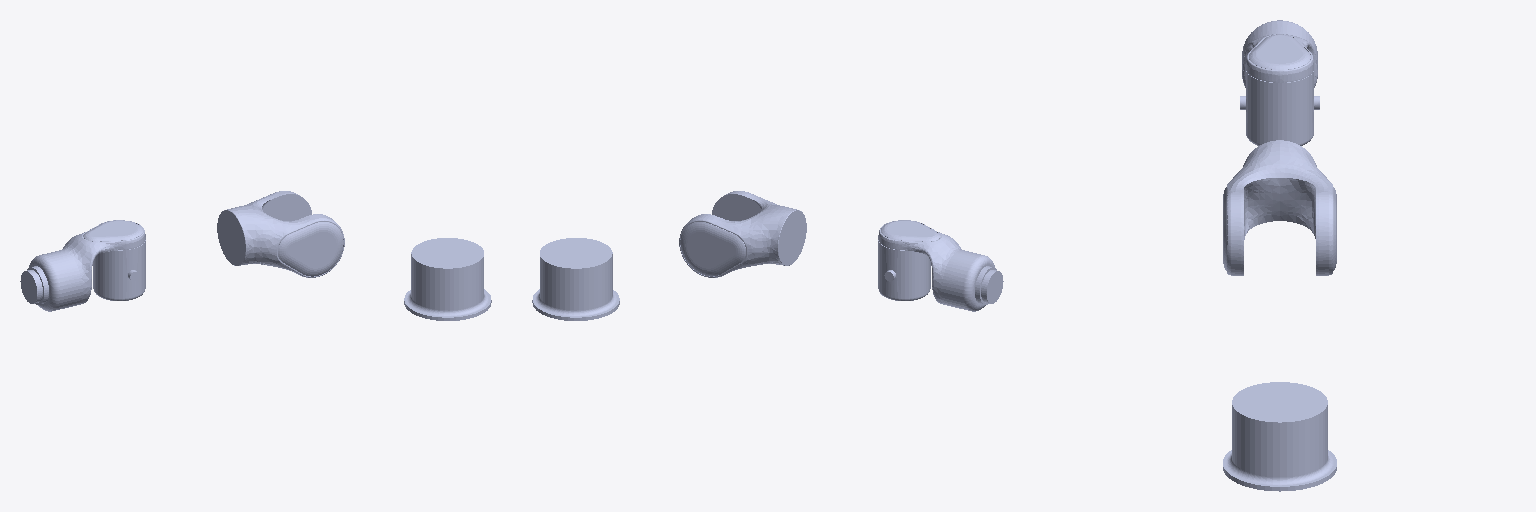
The robot description file, URDF, robot "aubo_A3_L":
<?xml version="1.0"?>
<robot name="aubo_A3_L">
<dh_type type="modified"/>
  <safety_para singularity_consistent="0.02 0.01 10 0.2 0.045 10"/>
  <friction_coeff value="0.65"/>
  <link name="base_link">
    <inertial>
      <origin
        xyz="-0.000095 0.000072  0.051816"
        rpy="0 0 0" />
      <mass value="1.155" />
      <inertia
        ixx="0.001093"
        ixy="0"
        ixz="0"
        iyy="0.001094"
        iyz="0"
        izz="0.00093" />
    </inertial>
    <visual>
      <origin
        xyz="0 0 0"
        rpy="0 0 0" />
      <geometry>
        <mesh
          filename="package://aubo_description/meshes/aubo_A3/visual/base_link.dae" />
      </geometry>
      <material
        name="">
        <color
          rgba="0.79216 0.81961 0.93333 1" />
      </material>
    </visual>
    <collision>
      <origin
        xyz="0 0 0"
        rpy="0 0 0" />
      <geometry>
        <mesh
          filename="package://aubo_description/meshes/aubo_A3/collision/base_link.STL" />
      </geometry>
    </collision>
  </link>
  <link
    name="link1">
    <inertial>
      <origin
        xyz="0.00561 -4.3E-05 -0.009181"
        rpy="0 0 0" />
      <mass
        value="1.358" />
      <inertia
        ixx="0.00178"
        ixy="-2E-06"
        ixz="-6.8E-05"
        iyy="0.001755"
        iyz="0"
        izz="0.001396" />
    </inertial>
    <visual>
      <origin
        xyz="0 0 0"
        rpy="0 0 0" />
      <geometry>
        <mesh
          filename="package://aubo_description/meshes/aubo_A3/visual/link1.dae" />
      </geometry>
      <material
        name="">
        <color
          rgba="0.79216 0.81961 0.93333 1" />
      </material>
    </visual>
    <collision>
      <origin
        xyz="0 0 0"
        rpy="0 0 0" />
      <geometry>
        <mesh
          filename="package://aubo_description/meshes/aubo_A3/collision/link1.STL" />
      </geometry>
    </collision>
  </link>
  <joint
    name="joint_link1"
    type="revolute">
    <origin
      xyz="0 0 0.1685"
      rpy="0 0 0" />
    <parent
      link="base_link" />
    <child
      link="link1" />
    <axis
      xyz="0 0 1" />
    <limit
      lower="-3.105"
      upper="3.105"
      effort="49"
      velocity="6.2832" />
<property inertia="0.42" damping="0" stiffness="0" offset="0" motor_constant="7.065" ratio="100" />
  </joint>
  <link
    name="link2">
    <inertial>
      <origin
        xyz="-2E-06 0.0943 0.000123"
        rpy="0 0 0" />
      <mass
        value="1.148" />
      <inertia
        ixx="0.003588"
        ixy="0"
        ixz="0"
        iyy="0.001583"
        iyz="5E-06"
        izz="0.003007" />
    </inertial>
    <visual>
      <origin
        xyz="0 0 0"
        rpy="0 0 0" />
      <geometry>
        <mesh
          filename="package://aubo_description/meshes/aubo_A3/visual/link2.dae" />
      </geometry>
      <material
        name="">
        <color
          rgba="0.79216 0.81961 0.93333 1" />
      </material>
    </visual>
    <collision>
      <origin
        xyz="0 0 0"
        rpy="0 0 0" />
      <geometry>
        <mesh
          filename="package://aubo_description/meshes/aubo_A3/collision/link2.STL" />
      </geometry>
    </collision>
  </link>
  <joint
    name="joint_link2"
    type="revolute">
    <origin
      xyz="0 0 0"
      rpy="1.5708 -1.5708 0" />
    <parent
      link="link1" />
    <child
      link="link2" />
    <axis
      xyz="0 0 1" />
    <limit
      lower="-3.6633"
      upper="0.52333"
      effort="49"
      velocity="6.283" />
<property inertia="0.42" damping="0" stiffness="0" offset="0" motor_constant="7.065" ratio="100" />
  </joint>
  <link
    name="link3">
    <inertial>
      <origin
        xyz="-0.0153 0.00515 -0.009459"
        rpy="0 0 0" />
      <mass
        value="0.88291" />
      <inertia
        ixx="0.00101"
        ixy="1.2E-05"
        ixz="0.000106"
        iyy="0.000996"
        iyz="-4E-05"
        izz="0.000698" />
    </inertial>
    <visual>
      <origin
        xyz="0 0 0"
        rpy="0 0 0" />
      <geometry>
        <mesh
          filename="package://aubo_description/meshes/aubo_A3/visual/link3.dae" />
      </geometry>
      <material
        name="">
        <color
          rgba="0.79216 0.81961 0.93333 1" />
      </material>
    </visual>
    <collision>
      <origin
        xyz="0 0 0"
        rpy="0 0 0" />
      <geometry>
        <mesh
          filename="package://aubo_description/meshes/aubo_A3/collision/link3.STL" />
      </geometry>
    </collision>
  </link>
  <joint
    name="joint_link3"
    type="revolute">
    <origin
      xyz="0 0.225 0"
      rpy="-1.5708 0 0" />
    <parent
      link="link2" />
    <child
      link="link3" />
    <axis
      xyz="0 0 1" />
    <limit
      lower="-3.105"
      upper="3.105"
      effort="13.5"
      velocity="7.3304" />
<property inertia="0.16" damping="0" stiffness="0" offset="0" motor_constant="6.25" ratio="100" />
  </joint>
  <link
    name="link4">
    <inertial>
      <origin
        xyz="0.0151 0.0783 -2.3E-05"
        rpy="0 0 0" />
      <mass
        value="0.840656" />
      <inertia
        ixx="0.001779"
        ixy="-0.000147"
        ixz="-1E-06"
        iyy="0.00083"
        iyz="-7E-06"
        izz="0.001536" />
    </inertial>
    <visual>
      <origin
        xyz="0 0 0"
        rpy="0 0 0" />
      <geometry>
        <mesh
          filename="package://aubo_description/meshes/aubo_A3/visual/link4.dae" />
      </geometry>
      <material
        name="">
        <color
          rgba="0.79216 0.81961 0.93333 1" />
      </material>
    </visual>
    <collision>
      <origin
        xyz="0 0 0"
        rpy="0 0 0" />
      <geometry>
        <mesh
          filename="package://aubo_description/meshes/aubo_A3/collision/link4.STL" />
      </geometry>
    </collision>
  </link>
  <joint
    name="joint_link4"
    type="revolute">
    <origin
      xyz="-0.018 0 0"
      rpy="1.5708 0 0" />
    <parent
      link="link3" />
    <child
      link="link4" />
    <axis
      xyz="0 0 1" />
    <limit
      lower="-1.0467"
      upper="2.5294"
      effort="13.5"
      velocity="7.3304" />
<property inertia="0.16" damping="0" stiffness="0" offset="0" motor_constant="6.25" ratio="100" />
  </joint>
  <link
    name="link5">
    <inertial>
      <origin
        xyz="-0.000265 0.00284 -0.089631"
        rpy="0 0 0" />
      <mass
        value="0.790828" />
      <inertia
        ixx="0.001274"
        ixy="1E-05"
        ixz="5E-06"
        iyy="0.001045"
        iyz="0"
        izz="0.000776" />
    </inertial>
    <visual>
      <origin
        xyz="0 0 0"
        rpy="0 0 0" />
      <geometry>
        <mesh
          filename="package://aubo_description/meshes/aubo_A3/visual/link5.dae" />
      </geometry>
      <material
        name="">
        <color
          rgba="0.79216 0.81961 0.93333 1" />
      </material>
    </visual>
    <collision>
      <origin
        xyz="0 0 0"
        rpy="0 0 0" />
      <geometry>
        <mesh
          filename="package://aubo_description/meshes/aubo_A3/collision/link5.STL" />
      </geometry>
    </collision>
  </link>
  <joint
    name="joint_link5"
    type="revolute">
    <origin
      xyz="0.018 0.2678 0"
      rpy="-1.5708 0 0" />
    <parent
      link="link4" />
    <child
      link="link5" />
    <axis
      xyz="0 0 1" />
    <limit
      lower="-3.105"
      upper="3.105"
      effort="7.3"
      velocity="7.3304" />
<property inertia="0.11" damping="0" stiffness="0" offset="0" motor_constant="7.5" ratio="100" />
  </joint>
  <link
    name="link6">
    <inertial>
      <origin
        xyz="8.5E-05 0.00713 1.9E-05"
        rpy="0 0 0" />
      <mass
        value="0.540802" />
      <inertia
        ixx="0.000314"
        ixy="2E-06"
        ixz="1E-06"
        iyy="0.000237"
        iyz="-2E-06"
        izz="0.000305" />
    </inertial>
    <visual>
      <origin
        xyz="0 0 0"
        rpy="0 0 0" />
      <geometry>
        <mesh
          filename="package://aubo_description/meshes/aubo_A3/visual/link6.dae" />
      </geometry>
      <material
        name="">
        <color
          rgba="0.79216 0.81961 0.93333 1" />
      </material>
    </visual>
    <collision>
      <origin
        xyz="0 0 0"
        rpy="0 0 0" />
      <geometry>
        <mesh
          filename="package://aubo_description/meshes/aubo_A3/collision/link6.STL" />
      </geometry>
    </collision>
  </link>
  <joint
    name="joint_link6"
    type="revolute">
    <origin
      xyz="0 0 0"
      rpy="1.5708 -1.5708 0" />
    <parent
      link="link5" />
    <child
      link="link6" />
    <axis
      xyz="0 0 1" />
    <limit
      lower="-1.0467"
      upper="1.0467"
      effort="7.3"
      velocity="7.3304" />
<property inertia="0.11" damping="0" stiffness="0" offset="0" motor_constant="7.5" ratio="100" />
  </joint>
  <link
    name="link7">
    <inertial>
      <origin
        xyz="3.5E-05 -0.0838 0.008305"
        rpy="0 0 0" />
      <mass
        value="0.327972" />
      <inertia
        ixx="0.000627"
        ixy="0"
        ixz="0"
        iyy="0.000296"
        iyz="-0.000167"
        izz="0.000561" />
    </inertial>
    <visual>
      <origin
        xyz="0 0 0"
        rpy="0 0 0" />
      <geometry>
        <mesh
          filename="package://aubo_description/meshes/aubo_A3/visual/link7.dae" />
      </geometry>
      <material
        name="">
        <color
          rgba="0.79216 0.81961 0.93333 1" />
      </material>
    </visual>
    <collision>
      <origin
        xyz="0 0 0"
        rpy="0 0 0" />
      <geometry>
        <mesh
          filename="package://aubo_description/meshes/aubo_A3/collision/link7.STL" />
      </geometry>
    </collision>
  </link>
  <joint
    name="joint_link7"
    type="revolute">
    <origin
      xyz="0 0 0"
      rpy="1.5708 -1.5708 0" />
    <parent
      link="link6" />
    <child
      link="link7" />
    <axis
      xyz="0 0 1" />
    <limit
      lower="-1.57"
      upper="1.57"
      effort="7.3"
      velocity="7.3304" />
<property inertia="0.11" damping="0" stiffness="0" offset="0" motor_constant="7.5" ratio="100" />
  </joint>

  <link name="flange"/>
  <joint name="flange" type="fixed">
    <origin xyz="0 -0.136 0" rpy="1.5707963267948966 0 0"/>
    <parent link="link7"/>
    <child link="flange"/>
  </joint>

  <link name="world" />
  <joint name="world_joint" type="fixed">
    <parent link="world" />
    <child link = "base_link" />
    <origin xyz="0.0 0.0 0.0" rpy="0.0 0.0 0.0" />
  </joint>
</robot>

--- Facts derived from the render (not from the file) ---
Views: 3 orthographic renders of the robot side by side, from view 1: azimuth 30°, elevation 25°; view 2: azimuth 150°, elevation 25°; view 3: azimuth 270°, elevation 25°.
Model aubo_A3_L with 10 links and 9 joints (7 revolute, 2 fixed), rooted at world, posed all joints at 0.
Links seen in each view (by area): view 1: link4, base_link, link7, link6; view 2: link4, base_link, link7, link6; view 3: base_link, link4, link6, link7.
Boxes of the visible links, x1,y1,x2,y2 form: link4: [217, 191, 344, 277]; base_link: [404, 238, 491, 320]; link7: [20, 220, 145, 311]; link6: [93, 240, 145, 300]; link4: [679, 191, 806, 277]; base_link: [532, 238, 619, 320]; link7: [878, 220, 1003, 311]; link6: [878, 240, 930, 300]; base_link: [1223, 382, 1336, 491]; link4: [1223, 140, 1336, 275]; link6: [1240, 71, 1319, 145]; link7: [1242, 20, 1317, 87].
Size in the robot's own frame: 0.6856 by 0.1132 by 0.2215 metres.
4 mesh visuals loaded from 8 distinct referenced files (4 Collada DAE); not drawn: 4 (reference not matched to a file when rendering).
